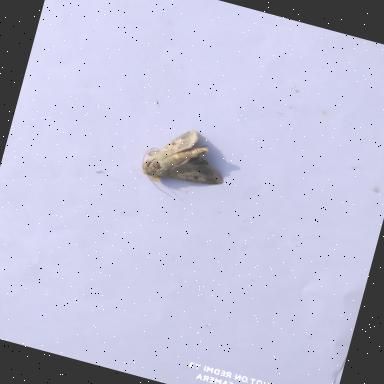abw: (134, 118, 240, 211)
